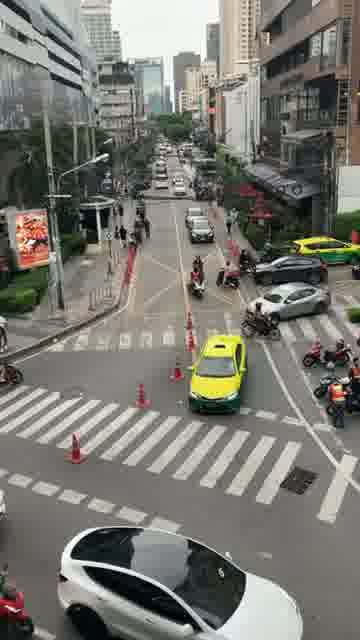bike: (0, 562, 34, 639), (312, 361, 359, 399), (302, 335, 352, 367), (325, 378, 359, 416), (239, 311, 280, 338), (0, 359, 23, 385), (215, 266, 240, 289), (189, 274, 206, 298), (238, 258, 256, 273), (258, 252, 281, 263), (195, 186, 208, 201), (192, 260, 204, 272)
car: (56, 524, 303, 640), (185, 334, 248, 415), (245, 280, 330, 322), (251, 253, 328, 285), (291, 234, 360, 265), (188, 216, 215, 243), (184, 207, 203, 227), (173, 181, 185, 195)
pedestrian: (327, 377, 344, 428), (0, 314, 8, 353), (118, 224, 127, 248), (143, 215, 151, 240), (113, 223, 120, 248), (230, 207, 238, 228), (224, 211, 232, 232), (117, 204, 124, 224), (112, 206, 117, 224)
